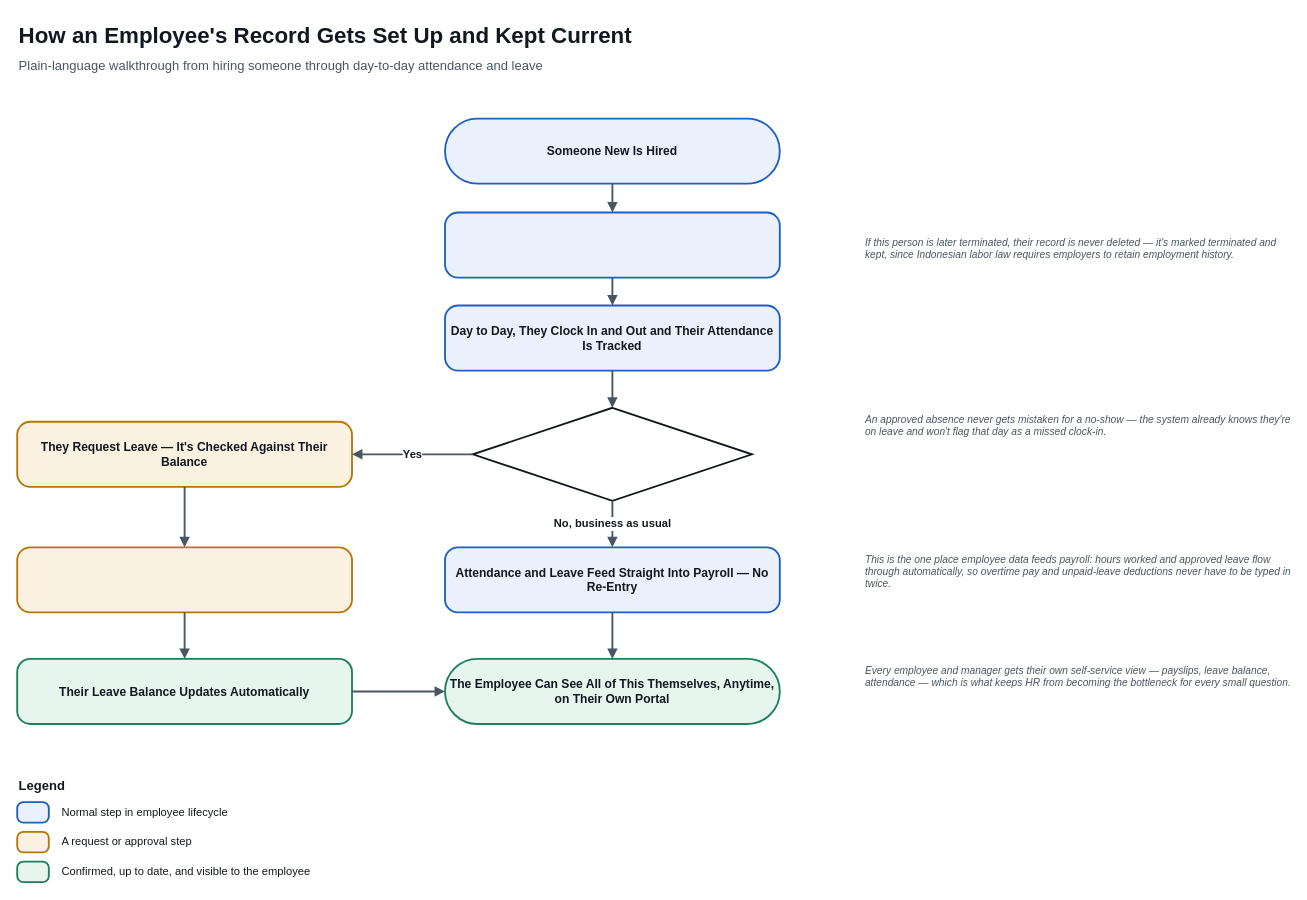
Image size: 1307x900. Some labels were removed from this diagram. The box of each missing label's shape, as (x1, y1, x2, y2) in pixels:
A Manager Reviews and Approves It: (16, 546, 352, 613)
Do They Need Time Off?: (472, 406, 752, 501)
One Form Creates Their Profile, Contract, and Job Seat Together: (444, 211, 780, 278)
